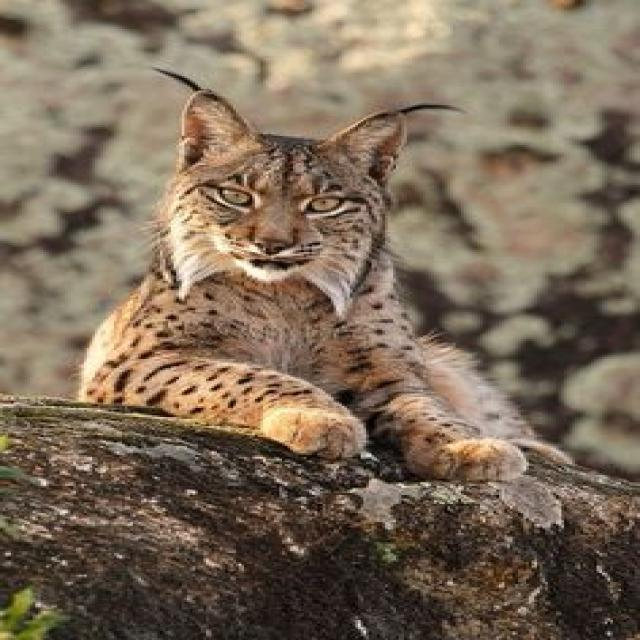Carnivorous: (79, 91, 572, 484)
